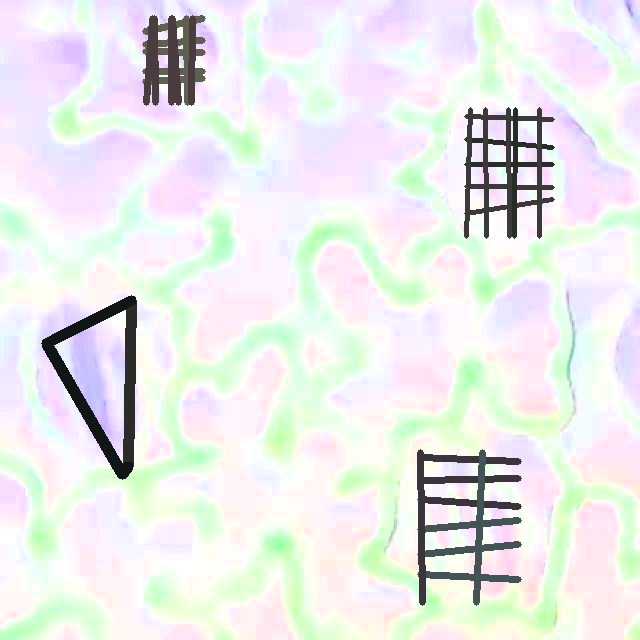open: (42, 295, 133, 478), (418, 450, 520, 604), (464, 107, 554, 238), (142, 15, 205, 105)
